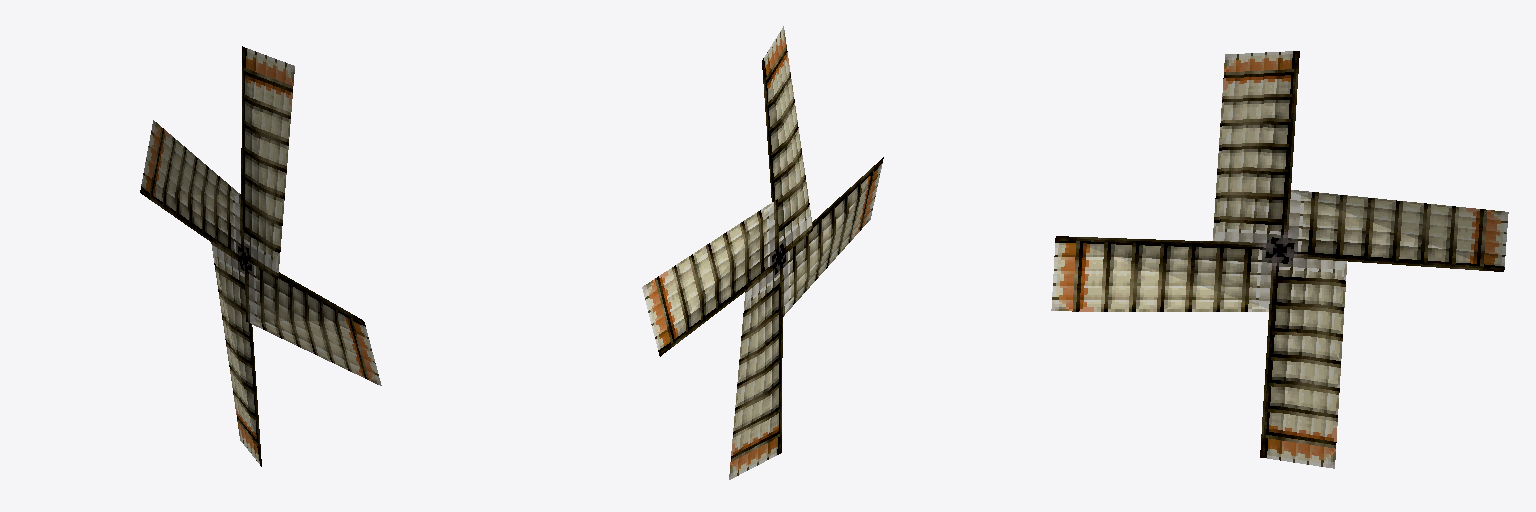
3 views of the same model, side by side, from view 1: azimuth 30°, elevation 25°; view 2: azimuth 150°, elevation 25°; view 3: azimuth 270°, elevation 25° (orthographic).
Parts seen in each view (by area): view 1: Mesh2 Model, Mesh1 Model; view 2: Mesh2 Model, Mesh1 Model; view 3: Mesh2 Model, Mesh1 Model.
Boxes of the visible parts, x1=… form: Mesh2 Model: x1=140, y1=120, x2=381, y2=385; Mesh1 Model: x1=211, y1=46, x2=294, y2=466; Mesh2 Model: x1=642, y1=157, x2=883, y2=356; Mesh1 Model: x1=729, y1=26, x2=812, y2=479; Mesh2 Model: x1=1051, y1=190, x2=1508, y2=311; Mesh1 Model: x1=1213, y1=51, x2=1346, y2=468.
Bounding box in the file's own units: 60 × 1023 × 1023.
Materials: 1 (1 with a texture image).